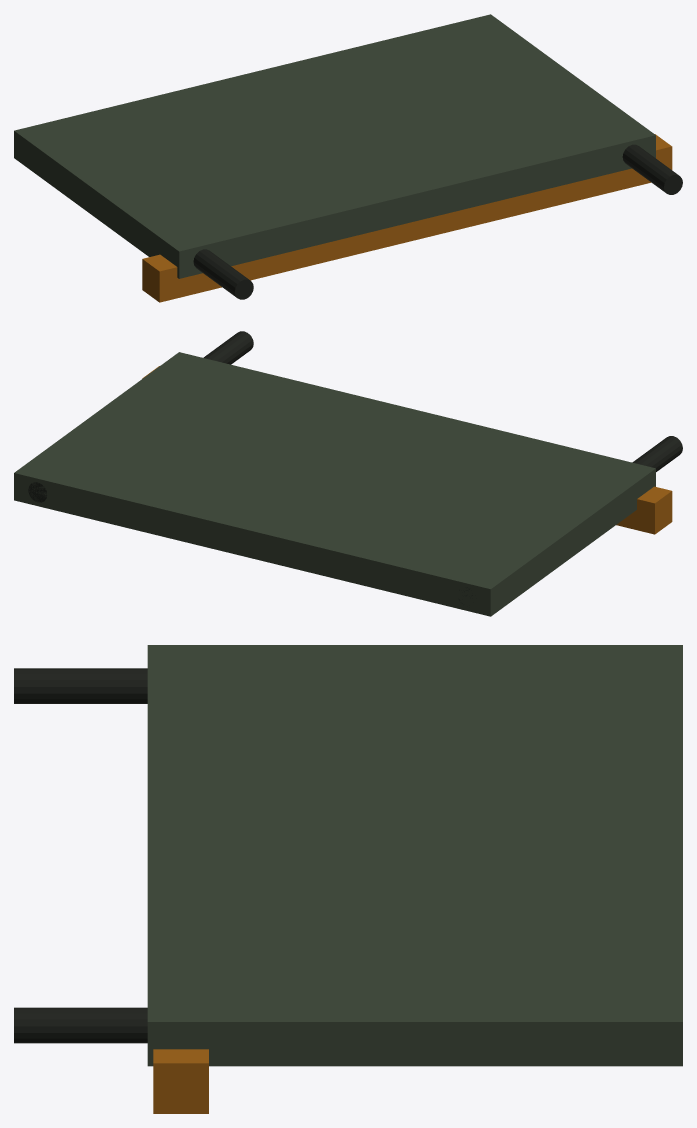
The model's file is military_checkpoint_gate.obj.
3 views of the same model, one above another, from view 1: azimuth 30°, elevation 25°; view 2: azimuth 150°, elevation 25°; view 3: azimuth 270°, elevation 25° (orthographic). The views are drawn at different scales.
Parts seen in each view (by area): view 1: military_checkpoint_gate; view 2: military_checkpoint_gate; view 3: military_checkpoint_gate.
Part boxes in pixels (x1,y1,x2,y2): military_checkpoint_gate: [14, 14, 682, 302]; military_checkpoint_gate: [14, 331, 682, 616]; military_checkpoint_gate: [14, 645, 682, 1113].
Size of the model in its own units: 4.3 by 0.385 by 3.
